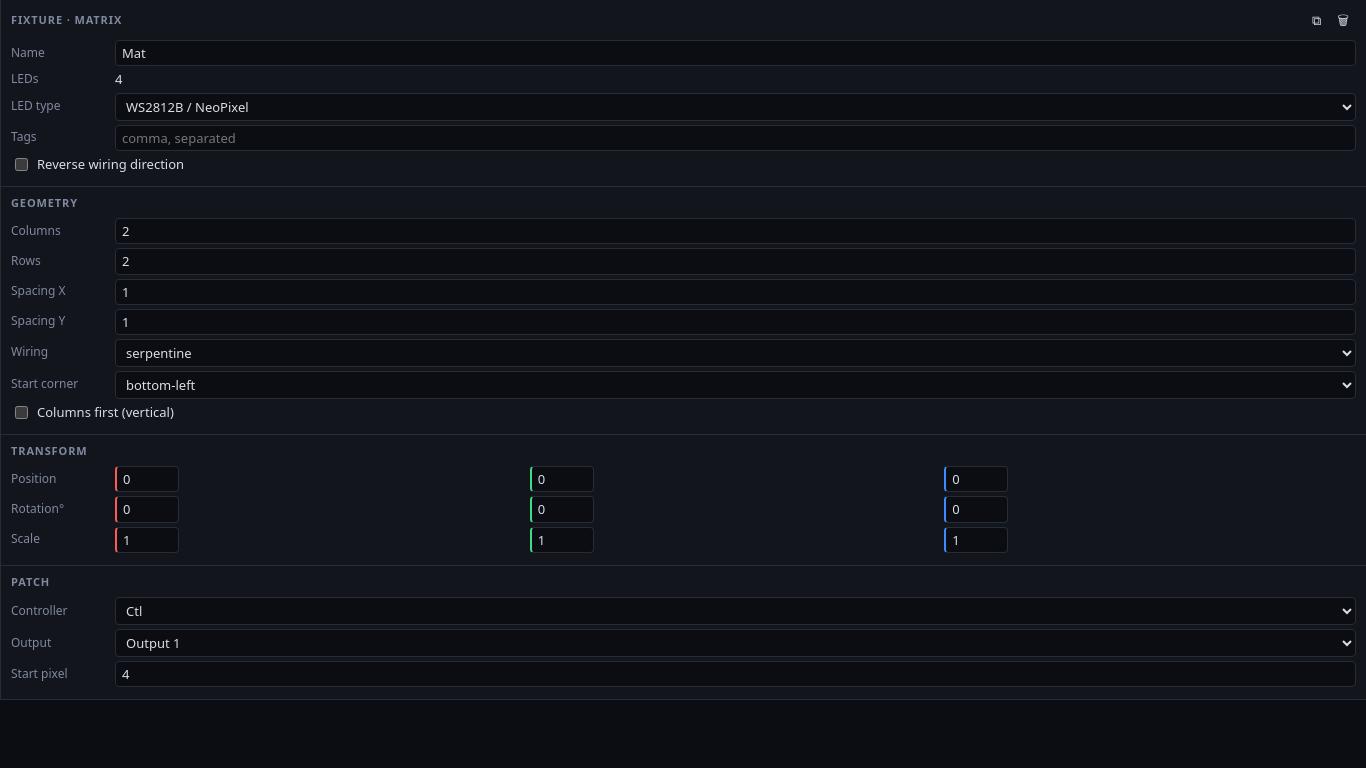
Scenario: Inspector › edits fixture geometry, transform and patch
Later steps or results of the test are not shown.
Check: the text with test id "fixture-led-count" reads "4", box left=115, top=70, right=122, bottom=88
Replace the text in the field named "Columns" with "5" at (736, 231), box left=115, top=218, right=1356, bottom=244
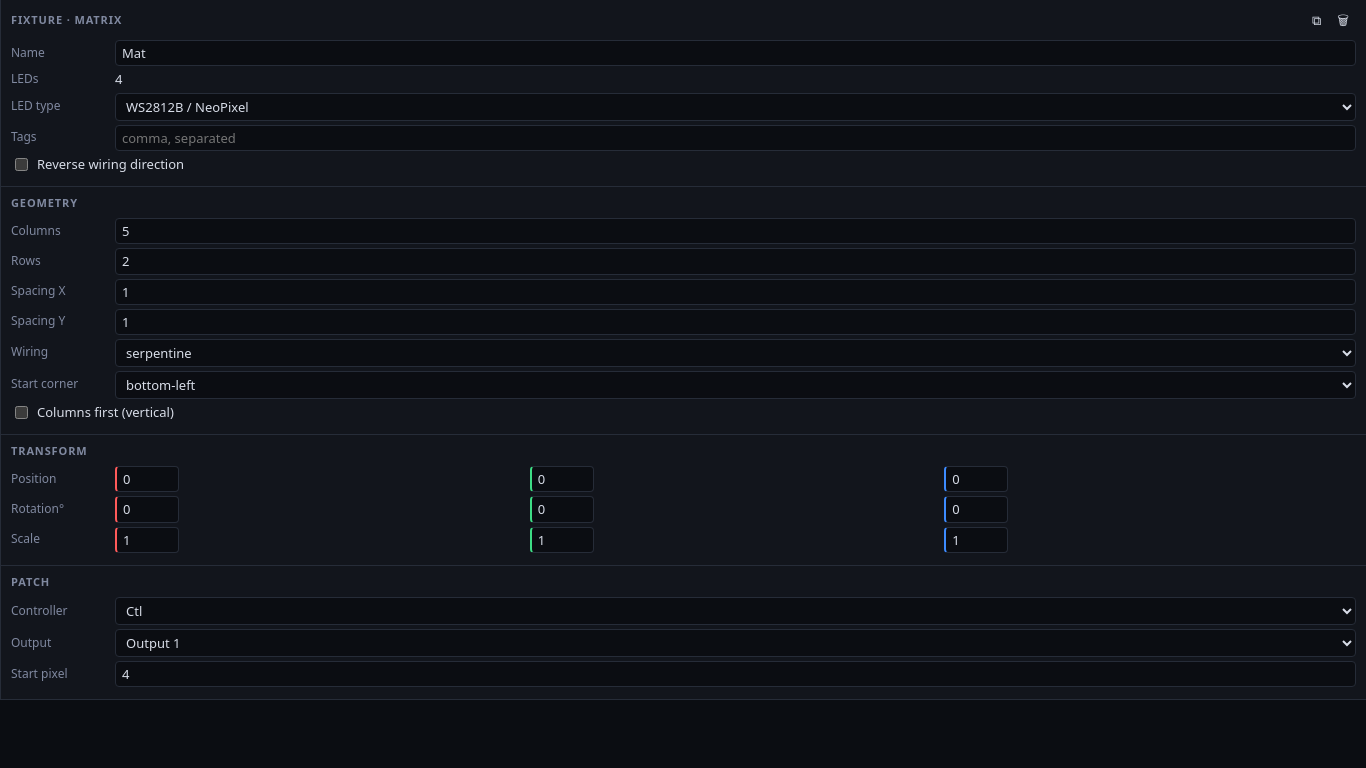
Leave the field named "Columns", box left=115, top=218, right=1356, bottom=244
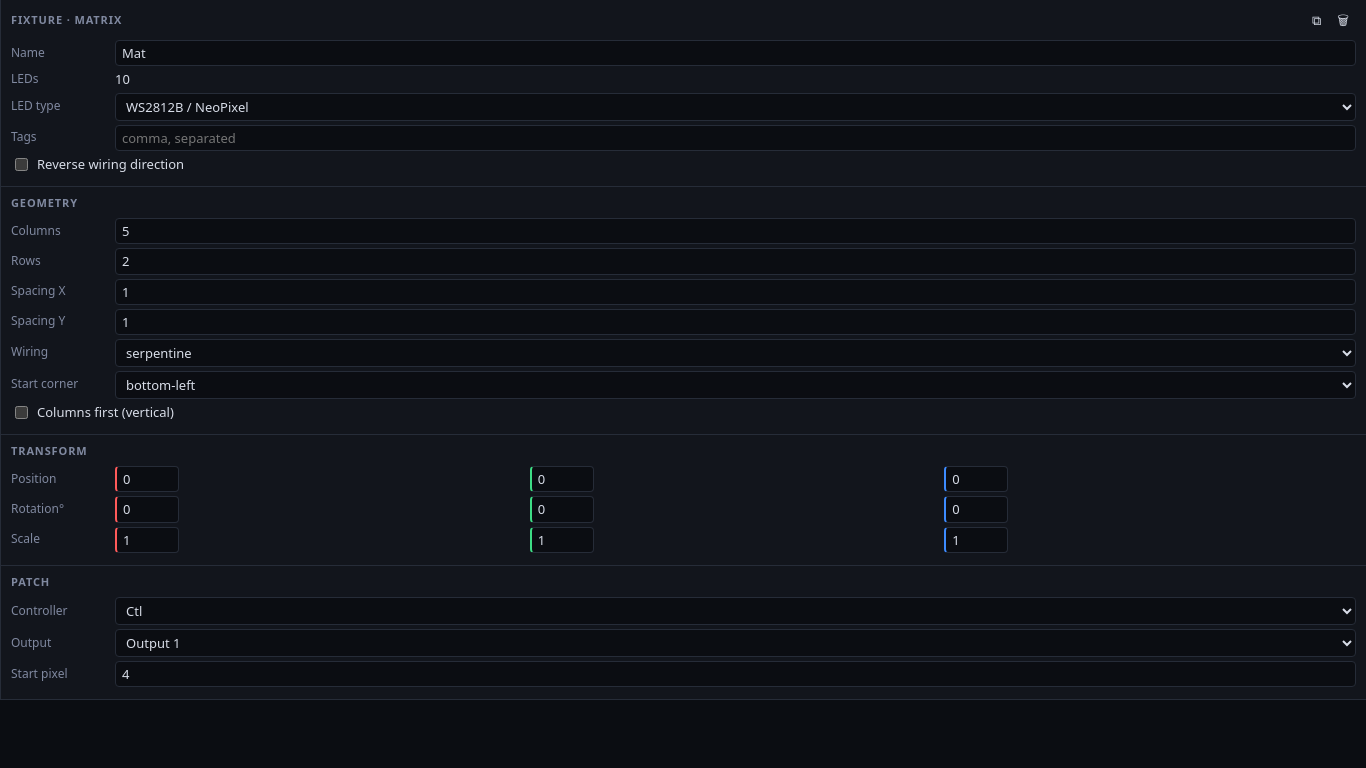
Check: the text with test id "fixture-led-count" reads "10", box left=115, top=70, right=130, bottom=88
